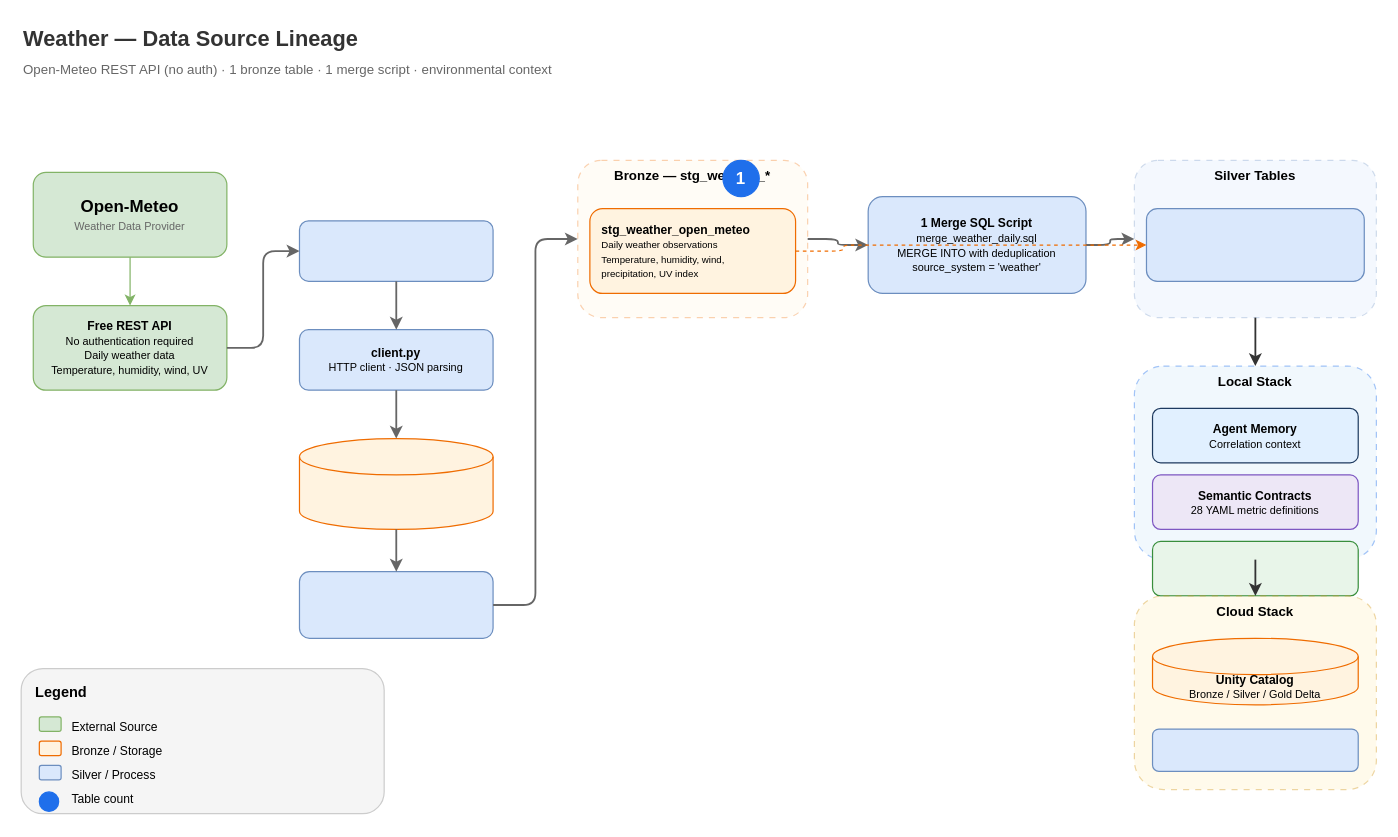
Image size: 1398x837. Some labels were removed from this diagram. Each missing label, with the centre of its shape:
"Dashboards" belongs at pixel 1254 749.
"ingestion_engine.py YAML-driven loader Parquet → DuckDB bronze" belongs at pixel 395 604.
"MCP Server FastMCP · 17 tools" belongs at pixel 1254 568.
"Parquet Data Lake weather/raw/open_meteo/ Hive-partitioned" belongs at pixel 395 483.
"run_weather.py API fetch orchestrator" belongs at pixel 395 250.
"weather_daily Daily weather context for health correlations" belongs at pixel 1254 244.
